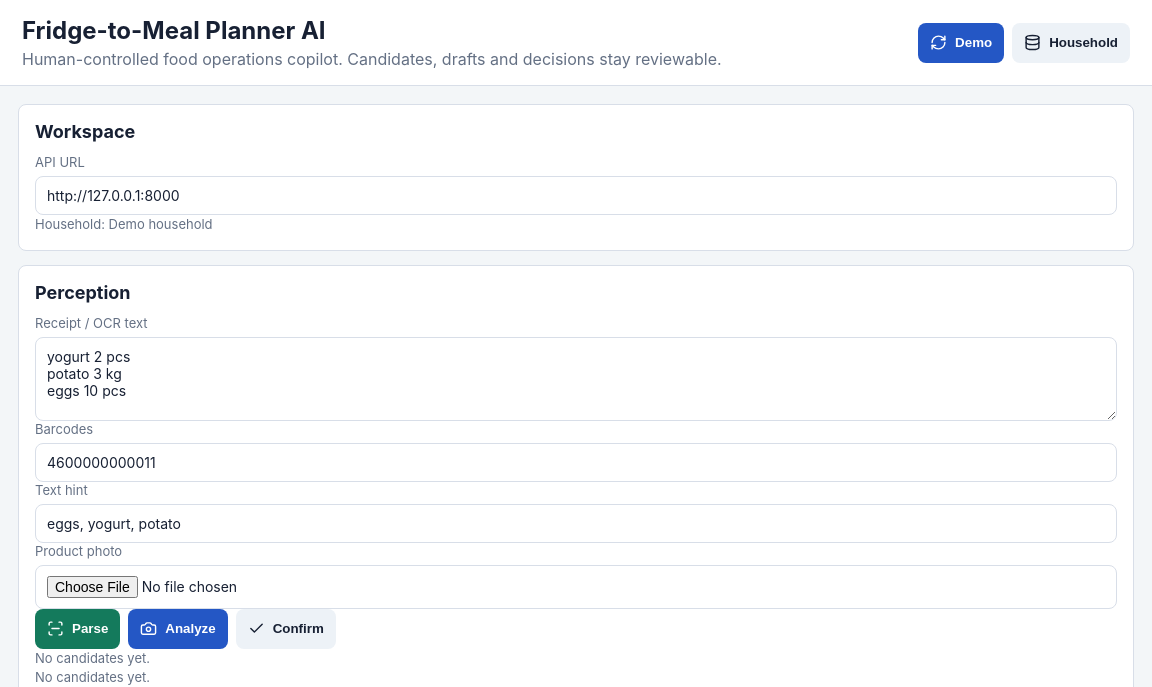
Test: React app › renders the human-controlled workspace and stores receipt candidates
The width and height of the screenshot is (1152, 687).
Expected: the heading "Fridge-to-Meal Planner AI" is shown, [22, 16, 326, 45]
Expected: the heading "Perception" is shown, [35, 282, 130, 303]
Click the button "Parse": (78, 629) [35, 609, 120, 649]
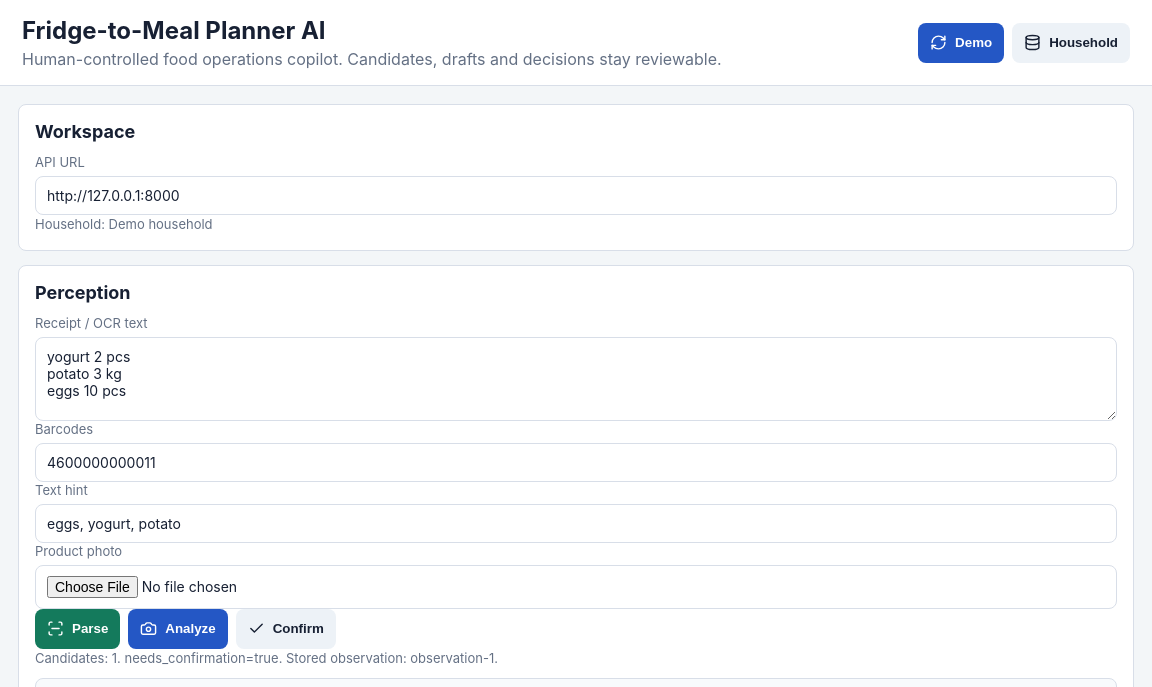
Expected: the text "Stored observation: observation-1" is shown, [35, 650, 498, 666]
